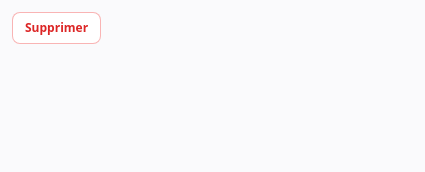
Test case: ExerciseDeleteCell › « Supprimer » demande confirmation avant tout appel
Click the button "Supprimer": (57, 28) x1=12 y1=12 x2=101 y2=44
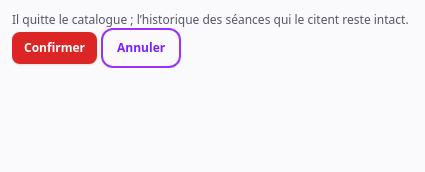
Check: the text "l’historique des séances qui le citent reste intact" is shown, box x1=12 y1=11 x2=409 y2=28
